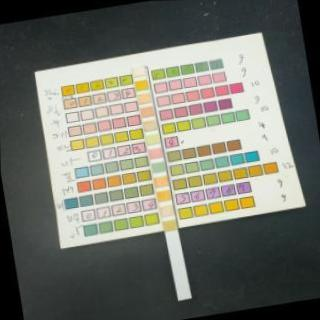mark: (163, 221, 177, 233), (148, 148, 164, 158), (160, 206, 174, 217), (154, 176, 168, 187), (144, 134, 159, 144), (152, 162, 166, 172), (143, 120, 157, 130), (157, 191, 170, 201), (140, 107, 154, 116), (134, 81, 148, 90), (132, 68, 146, 76), (138, 94, 150, 103)
